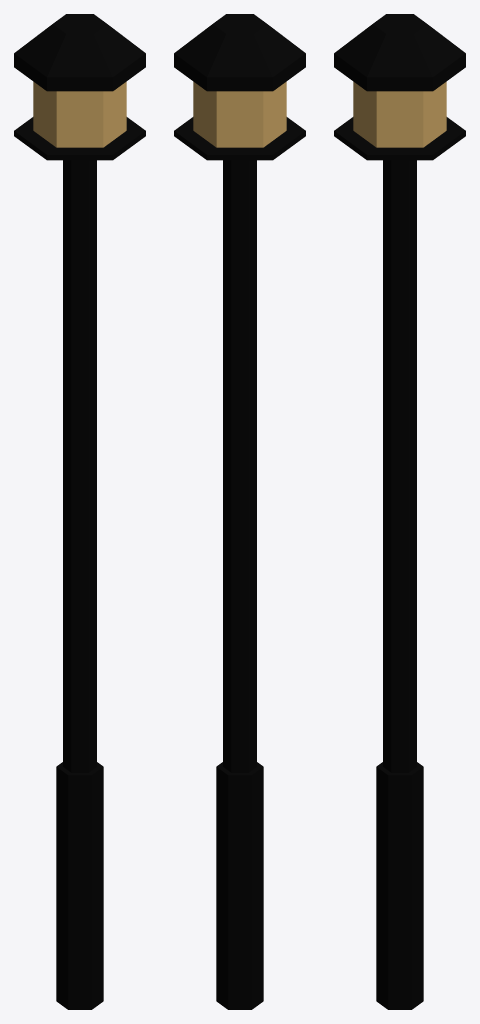
File: P_GARDEN LAMP.fbx
3 renders of one model, left to right at view 1: azimuth 90°, elevation 25°; view 2: azimuth 150°, elevation 25°; view 3: azimuth 270°, elevation 25°, orthographic.
Visible parts, largest first — view 1: Garden_Lamp; view 2: Garden_Lamp; view 3: Garden_Lamp.
Part boxes in pixels (<box>): Garden_Lamp: <box>14,14,145,1009</box>; Garden_Lamp: <box>174,14,305,1009</box>; Garden_Lamp: <box>334,14,465,1009</box>.
Bounding box in the file's own units: 16.28 × 154 × 18.8.
